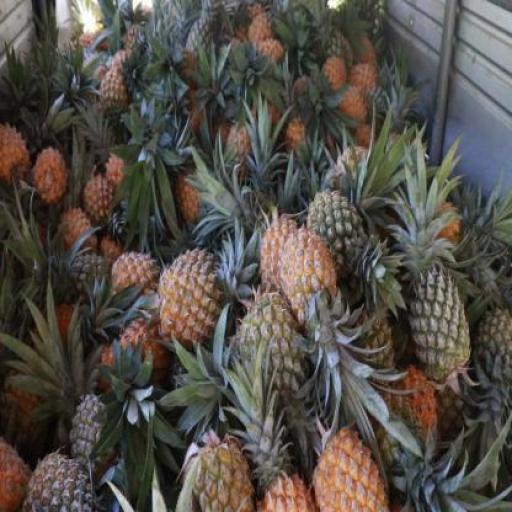------------------------------: (237, 291, 306, 390), (308, 189, 372, 287), (184, 445, 261, 512), (0, 375, 50, 450), (96, 67, 130, 126)
Pineapple - v8 v1: (310, 422, 389, 511), (280, 226, 340, 328), (158, 254, 222, 348), (259, 215, 308, 304), (122, 316, 168, 395), (0, 432, 34, 511), (112, 249, 155, 305), (83, 171, 121, 225), (32, 146, 64, 206), (0, 124, 30, 186)
